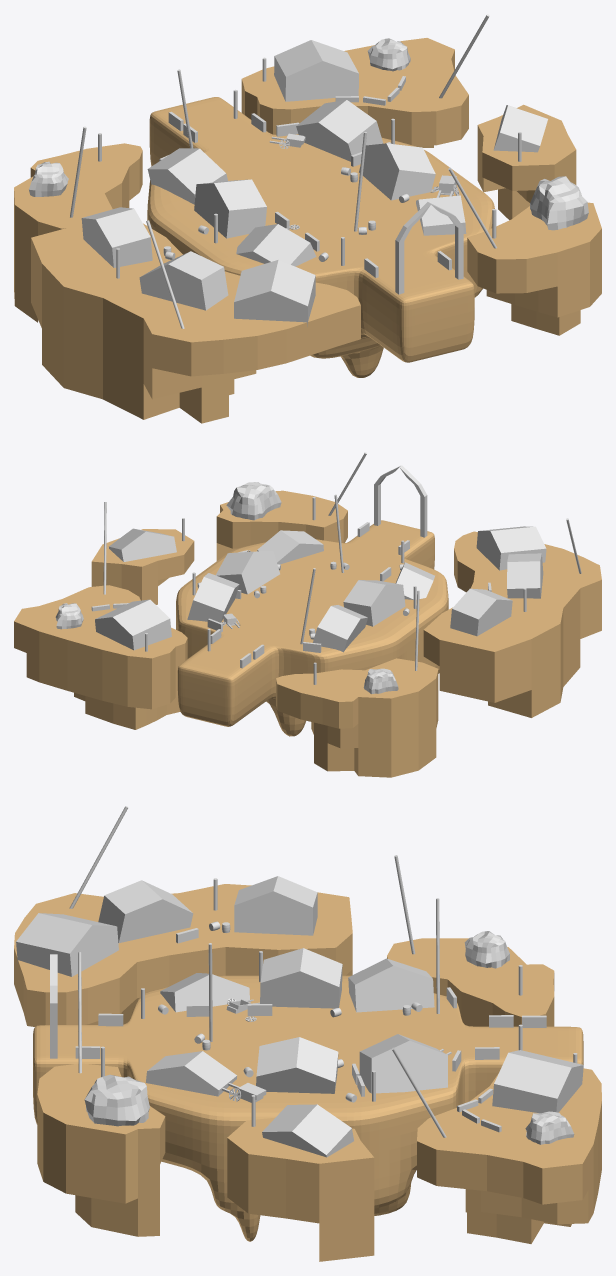
The model's file is Sala4.fbx.
3 renders of one model, top to bottom at view 1: azimuth 30°, elevation 25°; view 2: azimuth 150°, elevation 25°; view 3: azimuth 270°, elevation 25°, orthographic. The views are drawn at different scales.
Parts seen in each view (by area): view 1: Base 2-5, Cube.095, Cube.092, Cube.093, Cube.094, Cube.096, Casa.033, Casa.034, Casa.032, Casa.025, Casa.029, Casa.026 (+9 smaller); view 2: Base 2-5, Cube.095, Cube.093, Cube.094, Cube.092, Cube.096, Casa.034, Casa.031, Casa.033, Casa.029, Casa.026, Casa.025 (+9 smaller); view 3: Base 2-5, Cube.093, Cube.095, Cube.092, Cube.096, Cube.094, Casa.033, Casa.034, Casa.029, Casa.031, Casa.026, Casa.025 (+9 smaller).
Boxes of the visible parts, box(x1,y1,x2,y2) form: Base 2-5: box(147, 97, 494, 377); Cube.095: box(31, 223, 360, 423); Cube.092: box(467, 202, 601, 335); Cube.093: box(241, 38, 468, 147); Cube.094: box(14, 143, 142, 322); Cube.096: box(477, 104, 576, 220); Casa.033: box(234, 260, 315, 326); Casa.034: box(274, 40, 358, 101); Casa.032: box(139, 251, 228, 310); Casa.025: box(296, 100, 383, 161); Casa.029: box(194, 179, 266, 238); Casa.026: box(359, 143, 435, 200); Base 2-5: box(176, 520, 448, 736); Cube.095: box(423, 531, 601, 717); Cube.093: box(14, 585, 187, 729); Cube.094: box(276, 658, 438, 777); Cube.092: box(216, 490, 347, 560); Cube.096: box(91, 529, 194, 604); Casa.034: box(95, 599, 171, 650); Casa.031: box(450, 588, 512, 636); Casa.033: box(476, 526, 546, 570); Casa.029: box(343, 580, 405, 626); Casa.026: box(216, 551, 279, 594); Casa.025: box(187, 573, 239, 622); Base 2-5: box(33, 975, 583, 1241); Cube.093: box(417, 1068, 601, 1243); Cube.095: box(14, 884, 352, 1026); Cube.092: box(37, 1063, 165, 1236); Cube.096: box(227, 1117, 374, 1261); Cube.094: box(387, 938, 554, 1026); Casa.033: box(16, 913, 118, 976); Casa.034: box(492, 1050, 583, 1113); Casa.029: box(260, 948, 342, 1008); Casa.031: box(234, 876, 317, 935); Casa.026: box(256, 1037, 338, 1093); Casa.025: box(359, 1034, 447, 1093).
Bounding box in the file's own units: 15448 × 17492 × 8231.
